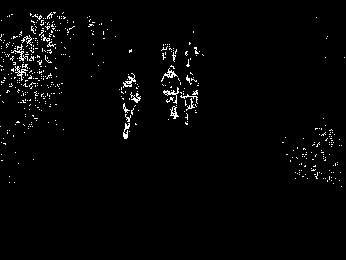person: (117, 71, 141, 141), (180, 70, 200, 127), (161, 64, 180, 120)
